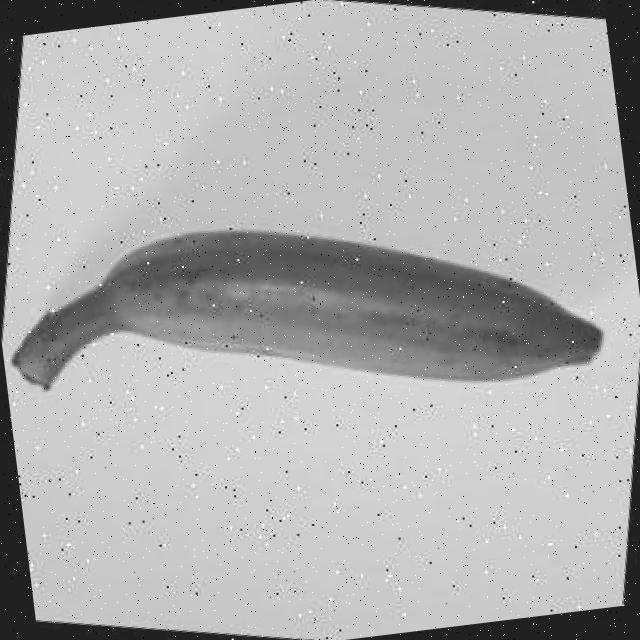Unripe: (0, 181, 607, 444)
